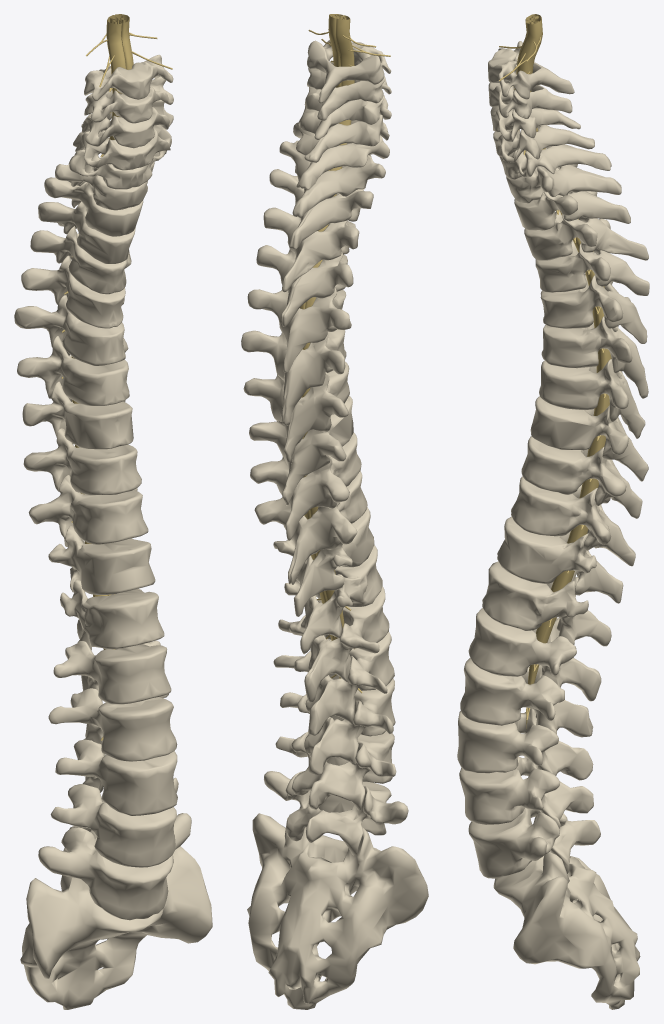
File: trunk-balanced.glb
3 views of the same model, side by side, from view 1: azimuth 30°, elevation 25°; view 2: azimuth 150°, elevation 25°; view 3: azimuth 270°, elevation 25° (orthographic). The views are drawn at different scales.
Visible parts, largest first — view 1: za.sacrum, za.vertebra-l5, za.vertebra-l2, za.vertebra-l4, za.vertebra-l3, za.vertebra-l1, za.vertebra-t12, za.vertebra-t10, za.vertebra-t11, za.vertebra-t9, za.vertebra-t7, za.vertebra-t8 (+12 smaller); view 2: za.sacrum, za.vertebra-l5, za.vertebra-l4, za.vertebra-l2, za.vertebra-l3, za.vertebra-l1, za.vertebra-t10, za.vertebra-t6, za.vertebra-t9, za.vertebra-t7, za.vertebra-t12, za.vertebra-t8 (+12 smaller); view 3: za.sacrum, za.vertebra-l3, za.vertebra-l2, za.vertebra-l4, za.vertebra-l1, za.vertebra-t12, za.vertebra-l5, za.vertebra-t11, za.vertebra-t10, za.vertebra-t9, za.vertebra-t8, za.vertebra-t7 (+12 smaller).
Part boxes in pixels (x1,y1,x2,y2): za.sacrum: (20,846,212,1009); za.vertebra-l5: (38,813,191,920); za.vertebra-l2: (48,688,177,761); za.vertebra-l4: (50,777,178,867); za.vertebra-l3: (55,737,177,815); za.vertebra-l1: (53,640,171,704); za.vertebra-t12: (60,579,164,650); za.vertebra-t10: (28,475,148,546); za.vertebra-t11: (48,525,155,594); za.vertebra-t9: (23,428,141,495); za.vertebra-t7: (17,336,129,405); za.vertebra-t8: (22,381,133,449); za.sacrum: (247,813,428,1009); za.vertebra-l5: (264,771,408,855); za.vertebra-l4: (275,731,396,810); za.vertebra-l2: (273,631,394,735); za.vertebra-l3: (280,678,395,774); za.vertebra-l1: (278,586,389,702); za.vertebra-t10: (254,471,367,584); za.vertebra-t6: (241,329,346,425); za.vertebra-t9: (250,432,361,540); za.vertebra-t7: (243,361,349,462); za.vertebra-t12: (284,545,382,654); za.vertebra-t8: (249,396,353,506); za.sacrum: (493,813,640,1009); za.vertebra-l3: (457,708,593,780); za.vertebra-l2: (460,657,593,737); za.vertebra-l4: (459,756,593,828); za.vertebra-l1: (468,608,601,701); za.vertebra-t12: (482,561,611,646); za.vertebra-l5: (468,808,600,878); za.vertebra-t11: (497,516,623,603); za.vertebra-t10: (511,476,635,566); za.vertebra-t9: (521,436,642,518); za.vertebra-t8: (530,396,648,481); za.vertebra-t7: (539,359,645,438).
Bounding box in the file's own units: 0.1231 × 0.6794 × 0.1203.
